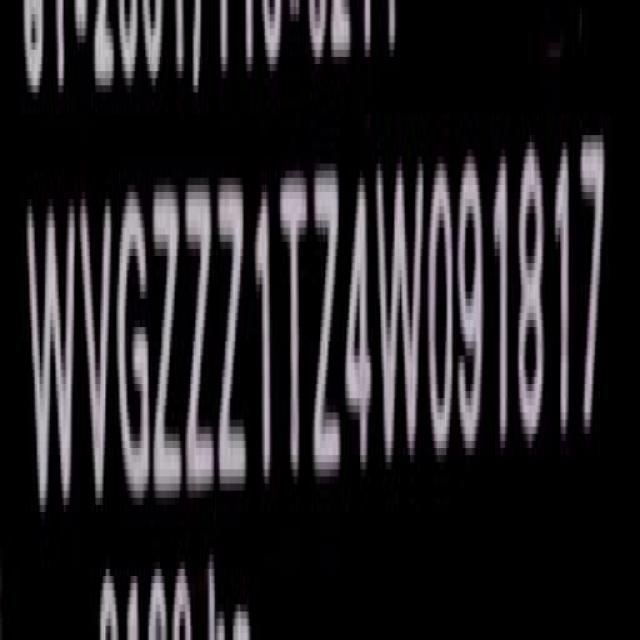0: (428, 152, 454, 468)
1: (252, 167, 274, 504), (489, 142, 512, 462), (554, 128, 574, 450)
4: (345, 158, 375, 490)
7: (580, 124, 607, 447)
8: (519, 139, 547, 455)
9: (459, 149, 485, 465)
G: (117, 198, 150, 495)
T: (280, 168, 308, 490)
V: (79, 192, 113, 506)
W: (377, 153, 424, 480), (29, 192, 74, 528)
Z: (217, 168, 250, 506), (186, 176, 216, 514), (312, 165, 342, 495), (152, 183, 181, 518)
